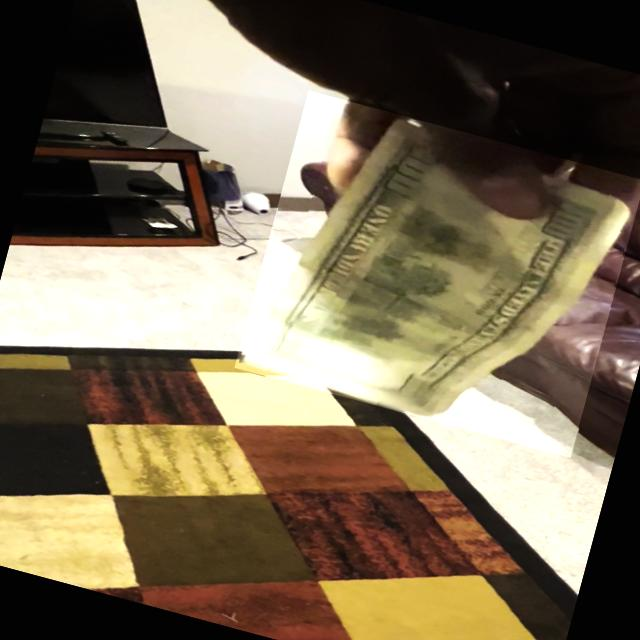hundred: (233, 89, 640, 457)
